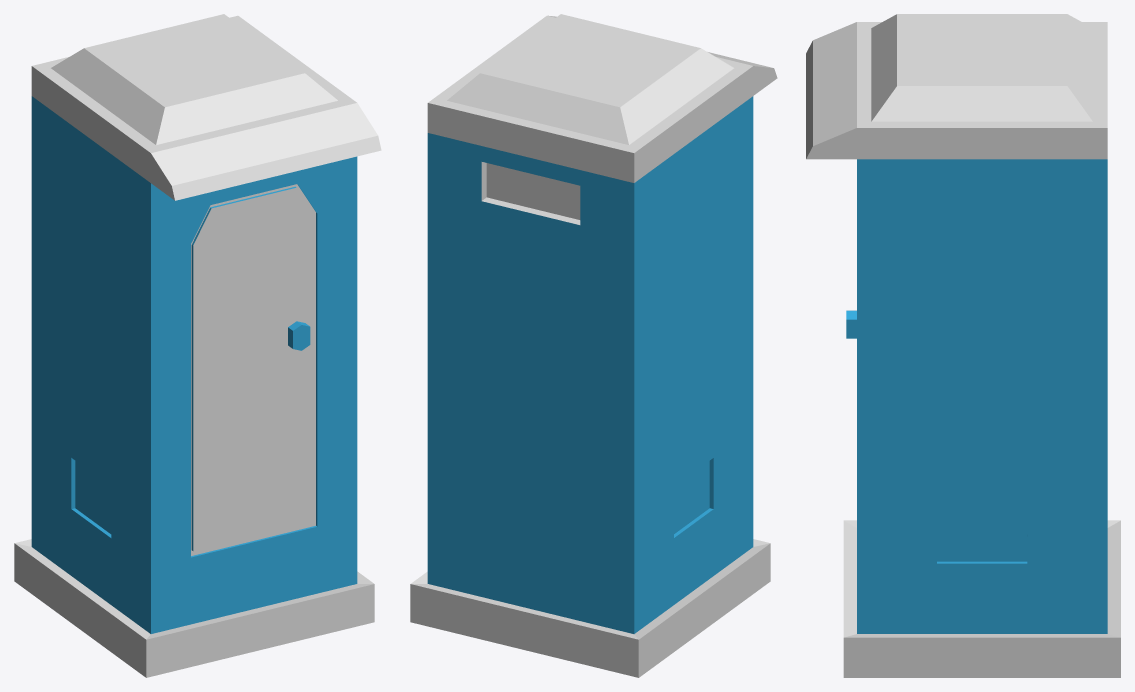
The model's file is Toilet.fbx.
3 renders of one model, left to right at view 1: azimuth 30°, elevation 25°; view 2: azimuth 150°, elevation 25°; view 3: azimuth 270°, elevation 25°, orthographic. The views are drawn at different scales.
Visible parts, largest first — view 1: Cube.094; view 2: Cube.094; view 3: Cube.094.
Part boxes in pixels (box(x1,y1,x2,y2)): Cube.094: box(14, 14, 381, 677); Cube.094: box(410, 14, 777, 677); Cube.094: box(806, 14, 1120, 677).
Size of the model in its own units: 92.79 by 210 by 105.
